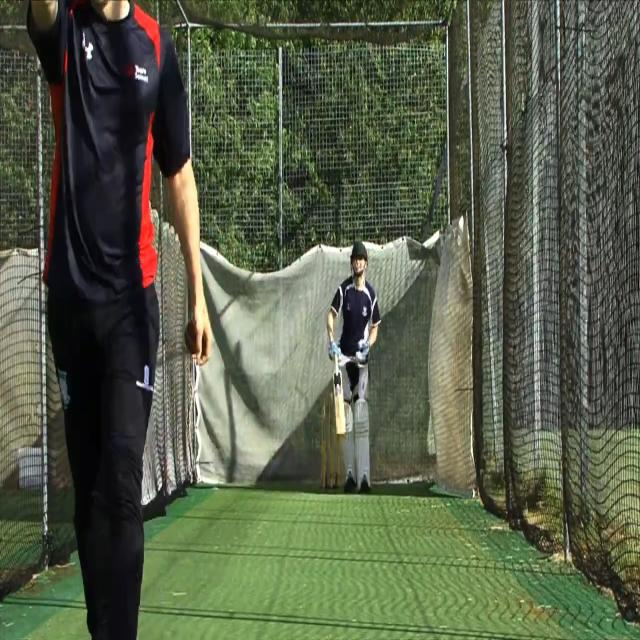batsman: (326, 239, 382, 496)
